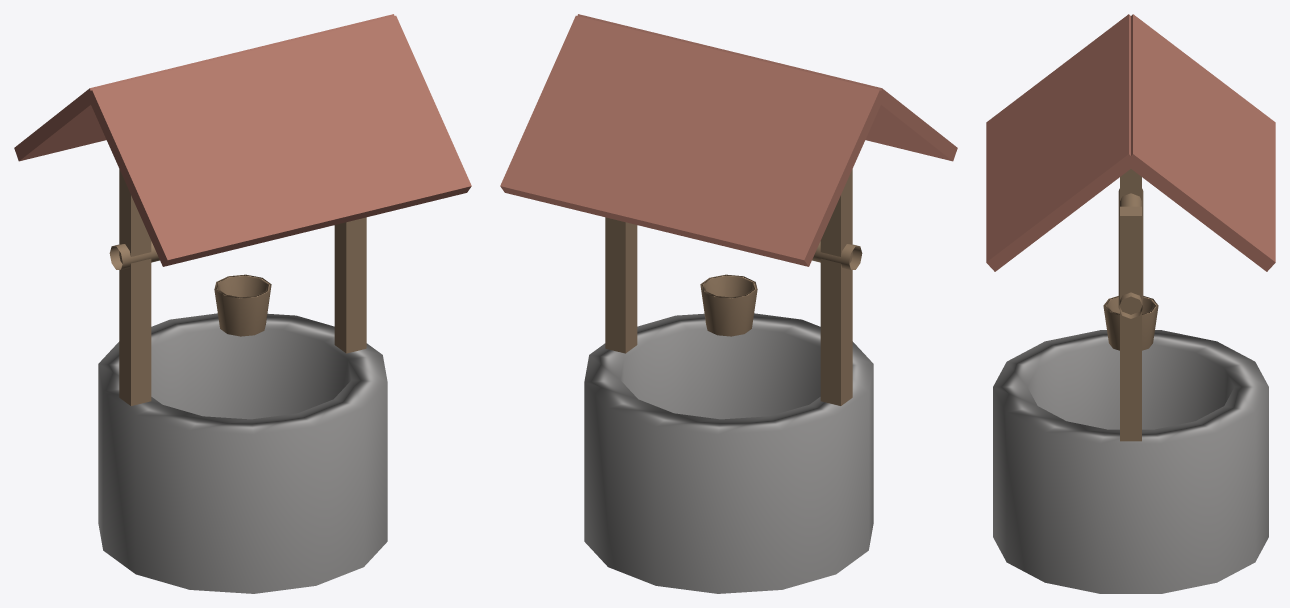
File: well.glb
The picture shows the model from 3 angles, left to right: view 1: azimuth 30°, elevation 25°; view 2: azimuth 150°, elevation 25°; view 3: azimuth 270°, elevation 25°; orthographic projection. The views are drawn at different scales.
Parts seen in each view (by area): view 1: well; view 2: well; view 3: well.
Boxes of the visible parts, x1=… form: well: x1=14, y1=14, x2=471, y2=593; well: x1=500, y1=14, x2=957, y2=593; well: x1=986, y1=14, x2=1275, y2=593.
Size of the model in its own units: 2.4 by 3.62 by 2.1.
